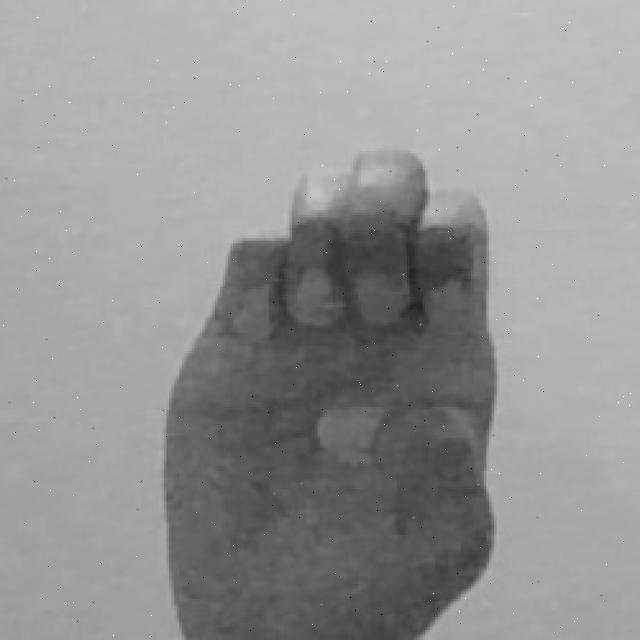E: (161, 146, 497, 640)
